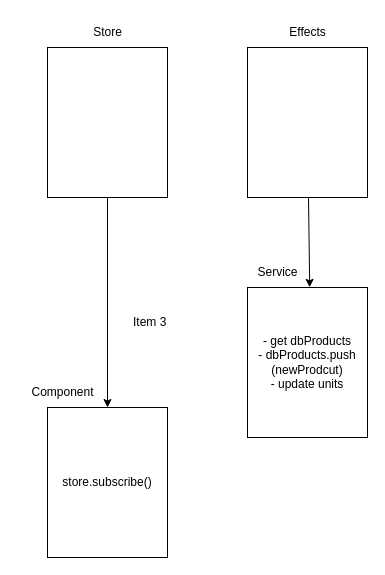
This 385x575 diagram has some shape labels left out. Here are the shapes that lost their labels. From the top down, the centre of each, then its label:
At [107,122]: "products = [] products .add(newProduct)".
At [307,122]: "reService.addCart (newProduct)".
